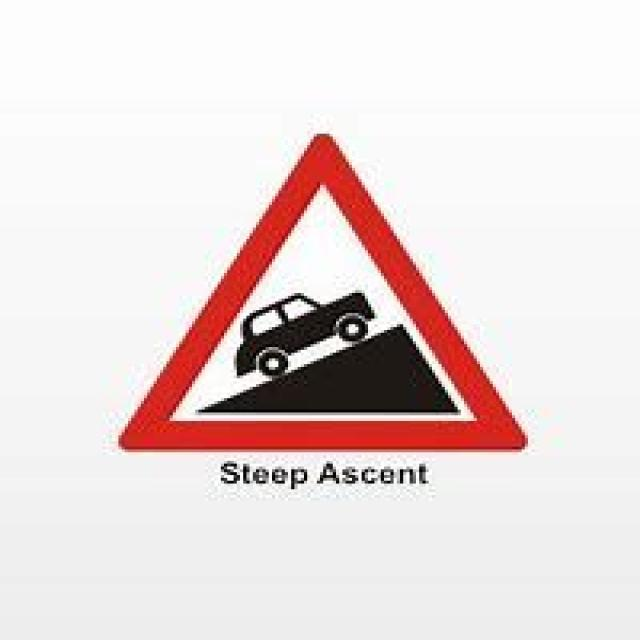steep ascent: (115, 130, 534, 456)
